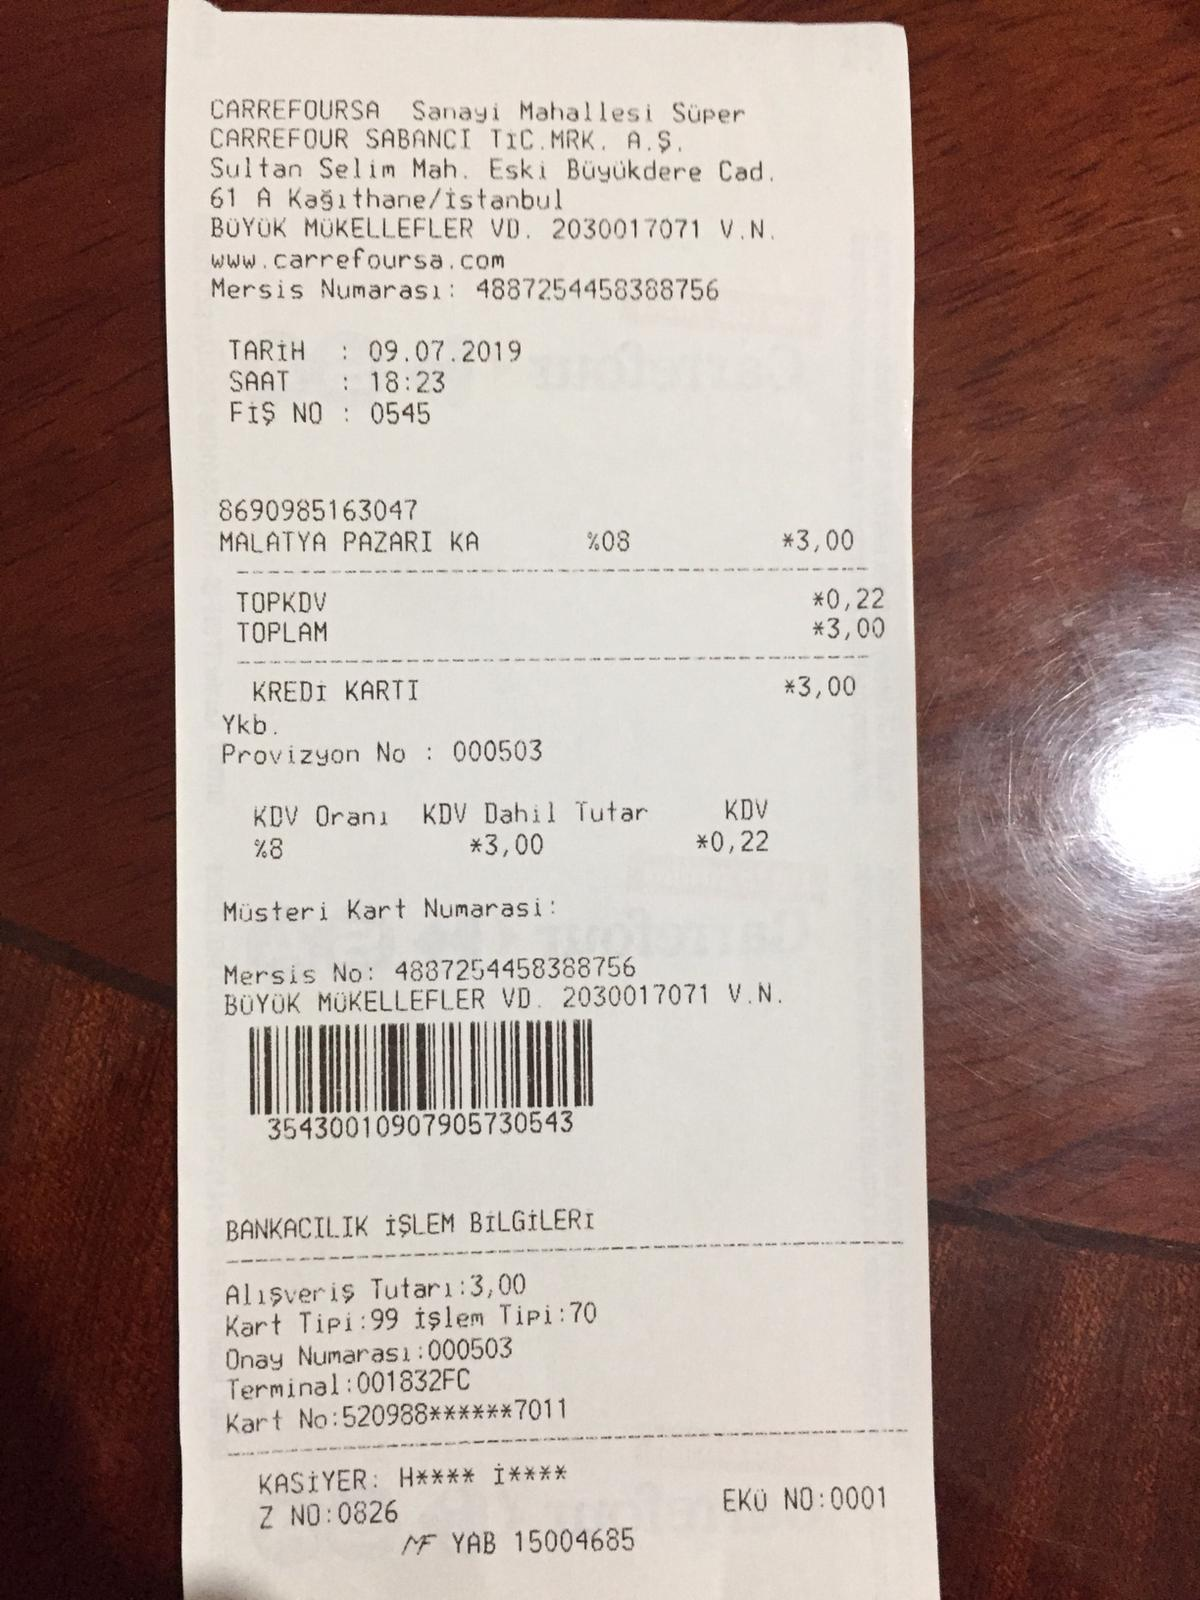total: (235, 615, 896, 650)
